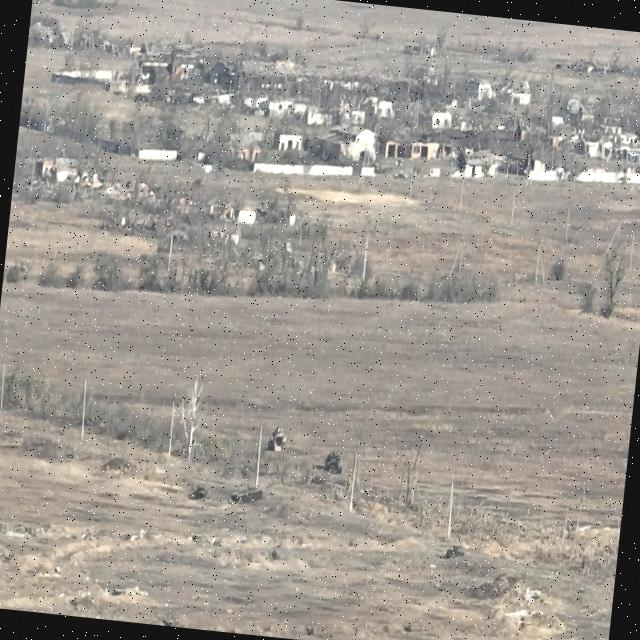AIFV: (324, 450, 345, 478), (268, 427, 289, 454)
Destroyed: (230, 482, 265, 510)
